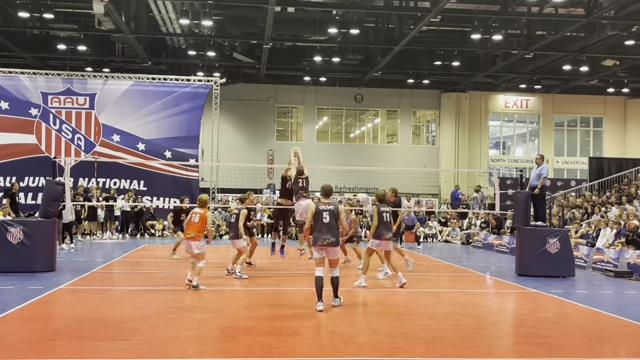muro: (282, 146, 319, 256), (271, 153, 295, 258)
